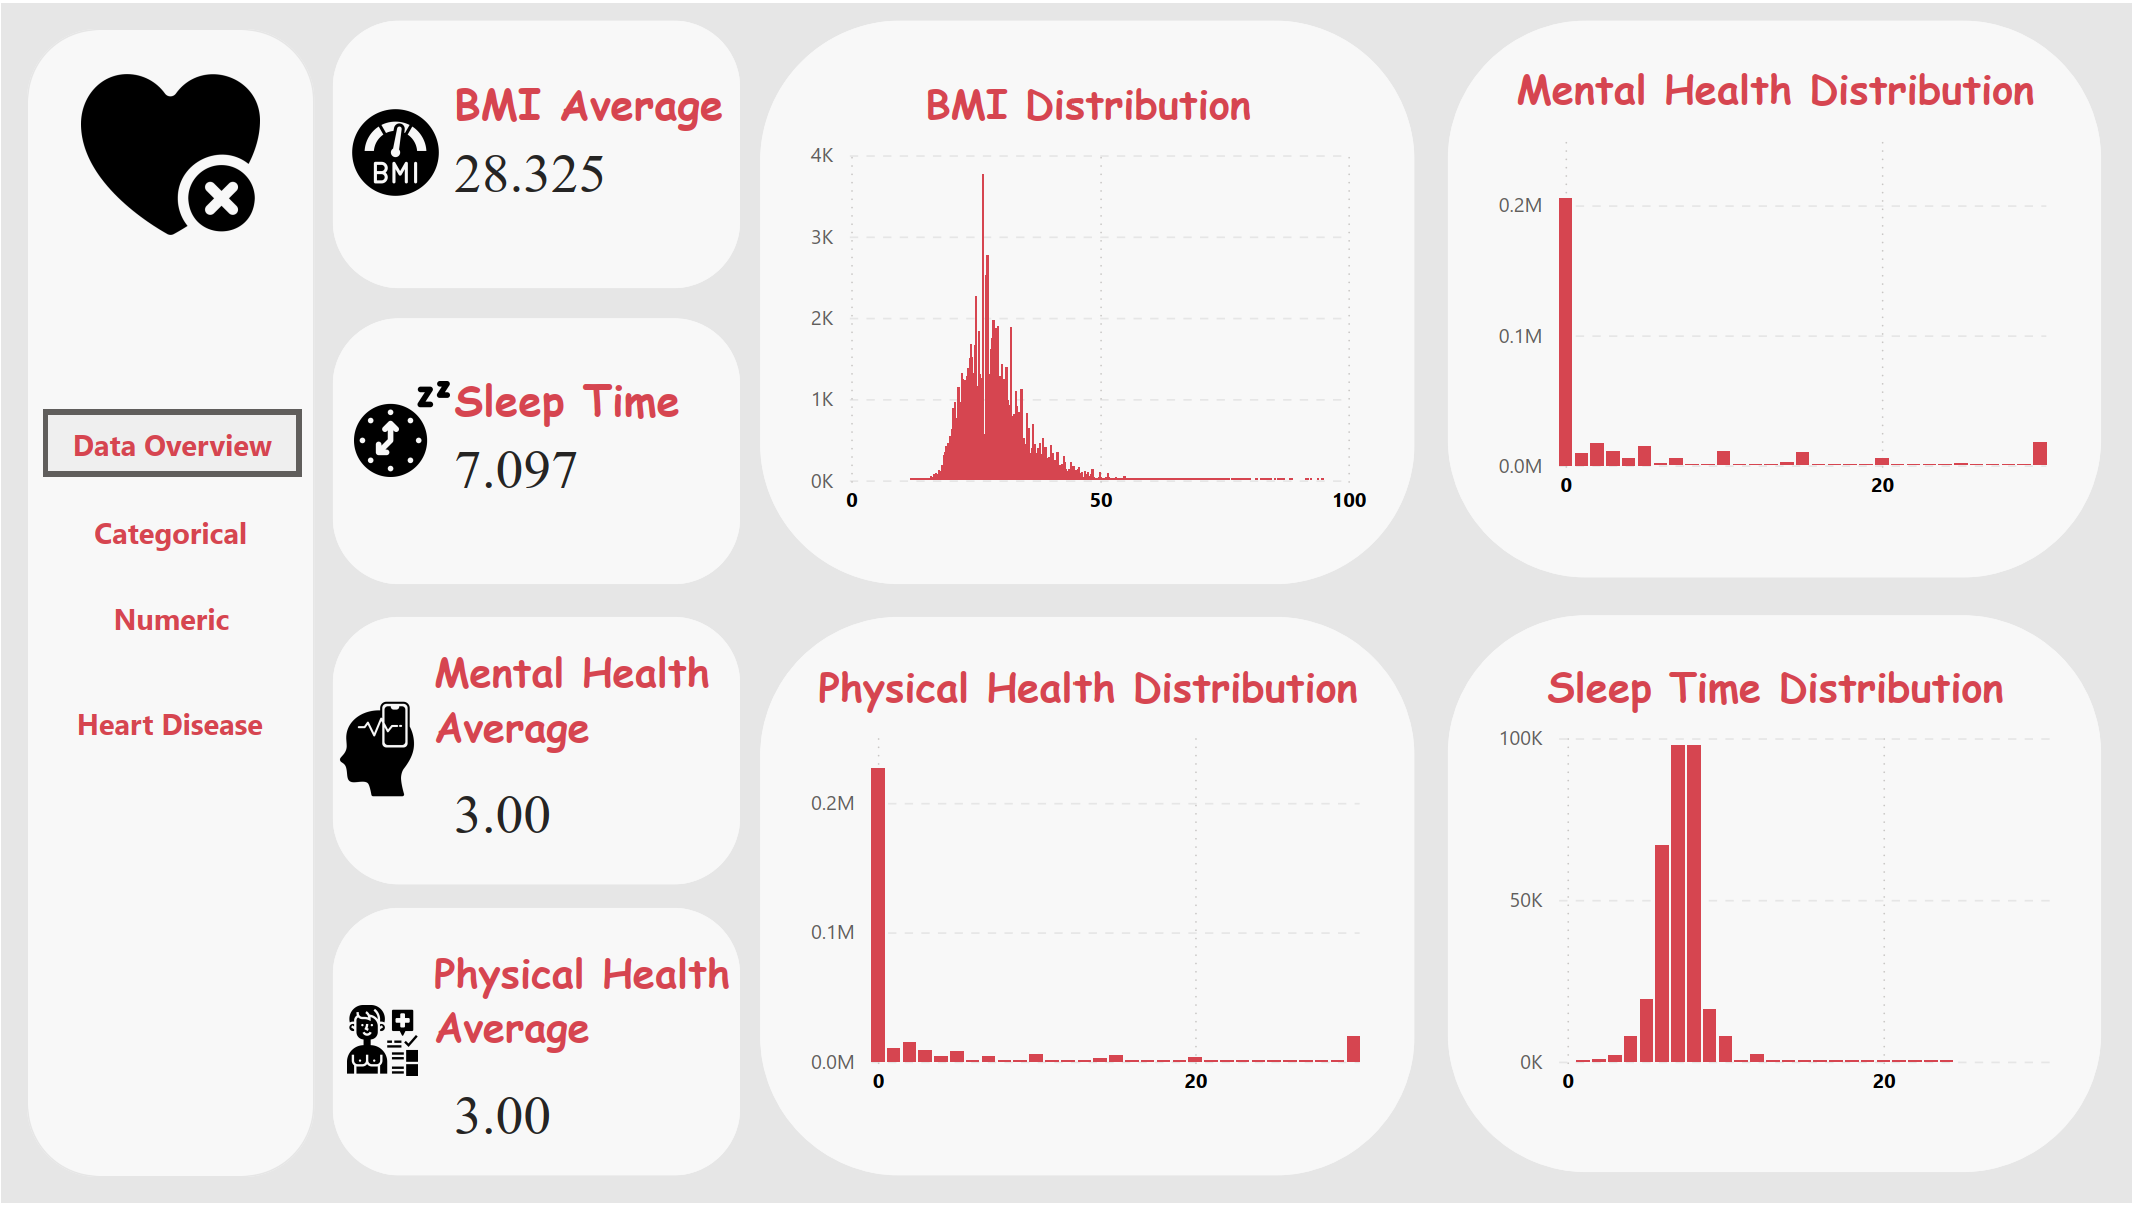

What the dashboard file says about the page in this screenshot:
{"tool":"powerbi","page":{"name":"Page 2","canvas":[1280,720],"ordinal":1},"visuals":[{"type":"shape","box":[14.6,14.6,173.4,690.2],"z":0},{"type":"image","box":[42.9,31.4,117.1,118.6],"z":1000},{"type":"shape","box":[456.4,10.2,392.7,339.1],"z":2000},{"type":"shape","box":[198.9,10.2,244.8,160.6],"z":3000},{"type":"image","box":[198.9,54.8,75.2,68.8],"z":4000},{"type":"cardVisual","fields":{"Data":["heart_2020_uncleaned.Mental Health Average"]},"box":[212.9,197.6,219.3,119.8],"z":5000},{"type":"clusteredColumnChart","title":"BMI Distribution","fields":{"Category":["heart_2020_uncleaned.BMI"],"Y":["heart_2020_uncleaned.Total Asked"]},"box":[480.6,43.3,344.2,272.8],"z":6000},{"type":"shape","box":[198.9,188.7,244.8,160.6],"z":7000},{"type":"shape","box":[198.9,368.4,244.8,160.6],"z":8000},{"type":"shape","box":[198.9,543.1,244.8,160.6],"z":9000},{"type":"cardVisual","fields":{"Data":["heart_2020_uncleaned.SleepTime Average"]},"box":[260.1,206.5,183.6,119.8],"z":10000},{"type":"image","box":[206.5,220.6,67.6,68.8],"z":11000},{"type":"cardVisual","fields":{"Data":["Avg(heart_2020_uncleaned.BMI_mean)"]},"box":[260.1,29.3,206.5,119.8],"z":12000},{"type":"image","box":[187.4,410.5,76.5,73.9],"z":13000},{"type":"cardVisual","title":"Mental Health Average","fields":{"Data":["heart_2020_uncleaned.Mental Health Average"]},"box":[260.1,383.7,182.3,124.9],"z":14000},{"type":"cardVisual","title":"Physical Health Average","fields":{"Data":["Avg(heart_2020_uncleaned.Physical Health Average)"]},"box":[260.1,564.8,196.3,124.9],"z":15000},{"type":"image","box":[198.9,596.7,59.9,52.3],"z":16000},{"type":"shape","box":[869.5,10.2,392.7,335.3],"z":17000},{"type":"clusteredColumnChart","title":"Mental Health Distribution","fields":{"Category":["heart_2020_uncleaned.MentalHealth"],"Y":["heart_2020_uncleaned.Total Asked"]},"box":[893.7,34.4,344.2,272.8],"z":18000},{"type":"shape","box":[456.4,368.4,392.7,335.3],"z":19000},{"type":"clusteredColumnChart","title":"Physical Health Distribution","fields":{"Category":["heart_2020_uncleaned.PhysicalHealth"],"Y":["heart_2020_uncleaned.Total Asked"]},"box":[480.6,392.7,344.2,272.8],"z":20000},{"type":"shape","box":[869.5,367.2,392.7,335.3],"z":21000},{"type":"clusteredColumnChart","title":"Sleep Time Distribution","fields":{"Category":["heart_2020_uncleaned.SleepTime"],"Y":["heart_2020_uncleaned.Total Asked"]},"box":[893.7,392.7,344.2,272.8],"z":22000},{"type":"actionButton","box":[25.5,243.5,154.3,40.8],"z":23000},{"type":"actionButton","box":[24.2,410.5,154.3,40.8],"z":24000},{"type":"actionButton","box":[25.5,299.6,153,35.7],"z":25000},{"type":"actionButton","box":[24.2,348,155.5,40.8],"z":26000}]}

Visuals, with their boxes in screenshot pixels (x1, y1, x2, y2), scaled from the page's 1280x720 canvas onto the 2140x1206 screenshot:
shape: 24,24,314,1181
image: 72,53,268,251
shape: 763,17,1420,585
shape: 333,17,742,286
image: 333,92,458,207
cardVisual - heart_2020_uncleaned.Mental Health Average: 356,331,723,532
"BMI Distribution" clusteredColumnChart: 804,73,1379,529
shape: 333,316,742,585
shape: 333,617,742,886
shape: 333,910,742,1179
cardVisual - heart_2020_uncleaned.SleepTime Average: 435,346,742,547
image: 345,370,458,485
cardVisual - Avg(heart_2020_uncleaned.BMI_mean): 435,49,780,250
image: 313,688,441,811
"Mental Health Average" cardVisual: 435,643,740,852
"Physical Health Average" cardVisual: 435,946,763,1155
image: 333,999,433,1087
shape: 1454,17,2110,579
"Mental Health Distribution" clusteredColumnChart: 1494,58,2070,515
shape: 763,617,1420,1179
"Physical Health Distribution" clusteredColumnChart: 804,658,1379,1115
shape: 1454,615,2110,1177
"Sleep Time Distribution" clusteredColumnChart: 1494,658,2070,1115
actionButton: 43,408,301,476
actionButton: 40,688,298,756
actionButton: 43,502,298,562
actionButton: 40,583,300,651
